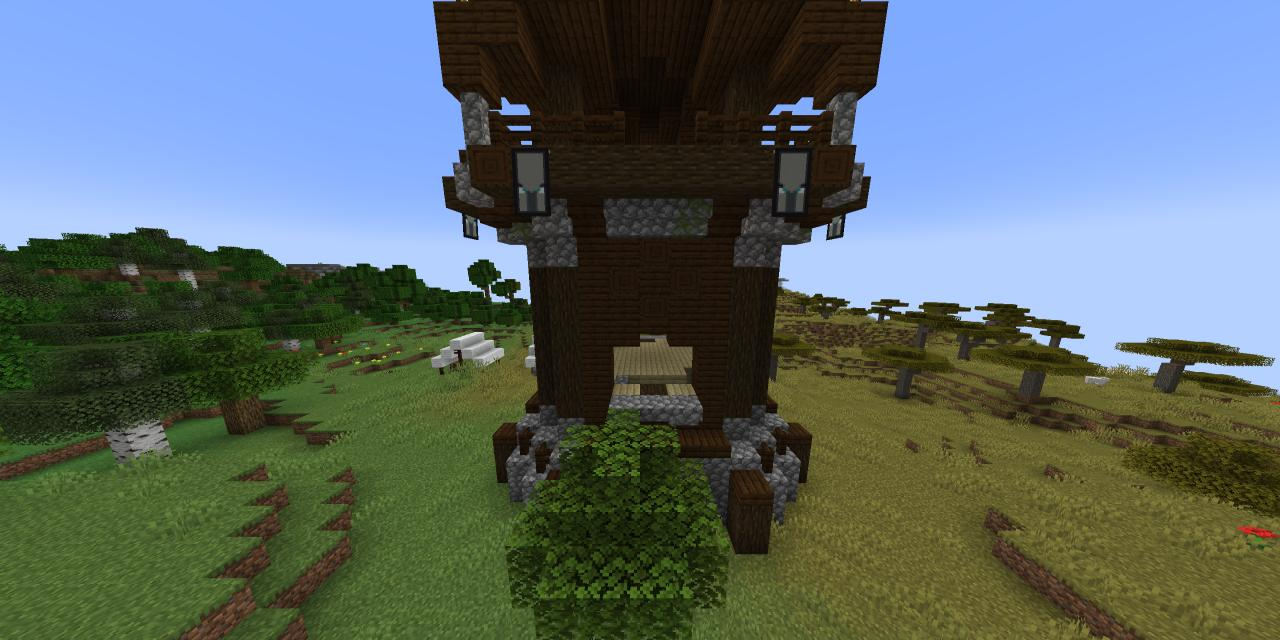pillager outpost: (430, 0, 896, 558)
